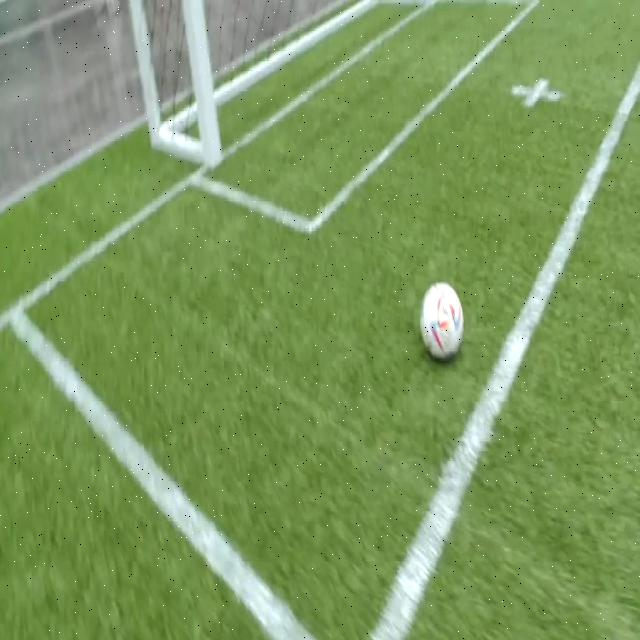ball: (420, 283, 464, 360)
goalpost: (190, 86, 224, 176)
